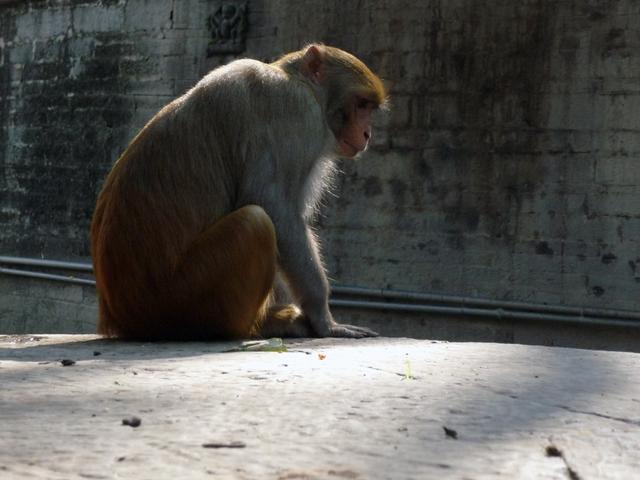monkey: (92, 40, 439, 375)
